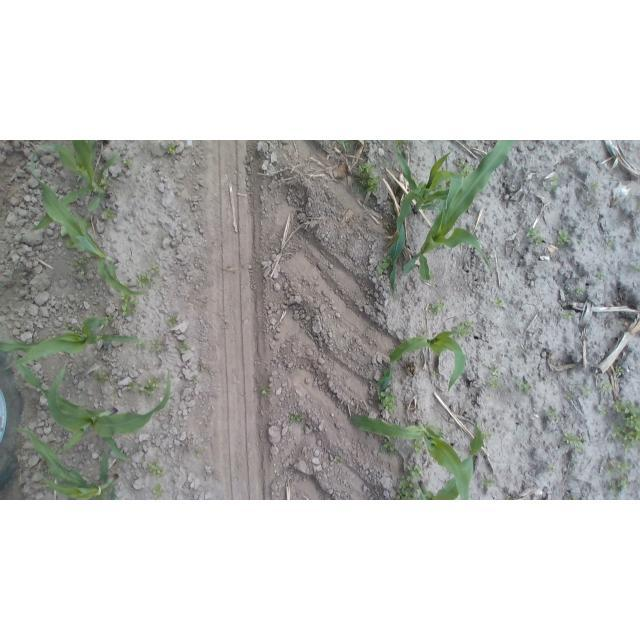Maize: (24, 151, 150, 301), (12, 360, 176, 461), (403, 140, 518, 282), (383, 149, 470, 304), (348, 416, 480, 499), (29, 142, 123, 238), (0, 316, 144, 370), (18, 427, 123, 500), (376, 328, 469, 397), (417, 420, 486, 500), (340, 140, 348, 153)
Weeds: (610, 398, 639, 451), (354, 160, 381, 196), (396, 475, 421, 500), (378, 390, 399, 414), (563, 431, 585, 452), (139, 376, 158, 398), (452, 321, 474, 340), (120, 295, 138, 317), (379, 438, 399, 455), (73, 255, 90, 275), (608, 476, 630, 491), (527, 227, 544, 246), (377, 255, 393, 275), (606, 460, 631, 472), (516, 377, 532, 394), (148, 460, 165, 476), (137, 273, 155, 288), (407, 463, 423, 479), (556, 229, 571, 246), (428, 300, 445, 315), (546, 176, 561, 193), (457, 160, 472, 176), (480, 475, 495, 489), (412, 440, 425, 456), (599, 379, 613, 393), (152, 485, 165, 499), (166, 142, 179, 156), (91, 371, 109, 381), (100, 176, 112, 191), (604, 237, 617, 250), (177, 341, 189, 355), (102, 313, 114, 327), (289, 413, 304, 424), (150, 339, 161, 354), (589, 180, 601, 193), (103, 208, 116, 220), (488, 364, 500, 377), (546, 407, 559, 419), (66, 178, 80, 189), (61, 323, 78, 332), (166, 315, 179, 326), (488, 379, 502, 389), (122, 157, 134, 168), (582, 384, 593, 396), (493, 299, 505, 310), (151, 264, 162, 275), (614, 364, 624, 376), (395, 140, 406, 150), (127, 380, 136, 392), (260, 385, 270, 395), (136, 340, 146, 350), (565, 393, 575, 402), (599, 406, 608, 416), (331, 456, 341, 465), (562, 312, 573, 320), (576, 286, 585, 295), (109, 388, 119, 396), (484, 432, 492, 441), (596, 272, 605, 280), (117, 180, 125, 189), (112, 377, 120, 386), (569, 493, 580, 499), (577, 238, 585, 246), (194, 449, 201, 458), (633, 265, 640, 274), (431, 370, 438, 378), (199, 364, 206, 372), (636, 198, 640, 212), (191, 375, 200, 381), (422, 327, 429, 334), (140, 143, 148, 149), (548, 464, 554, 472), (505, 494, 512, 500), (346, 140, 351, 148)
